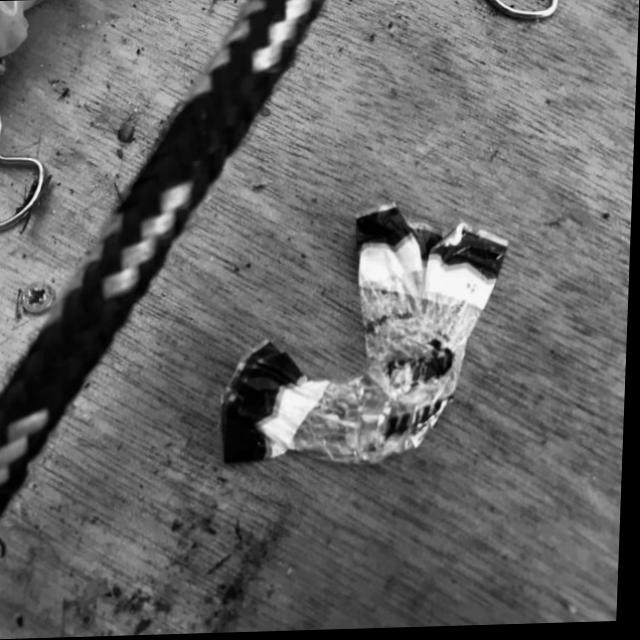Plastic: (218, 195, 514, 476)
